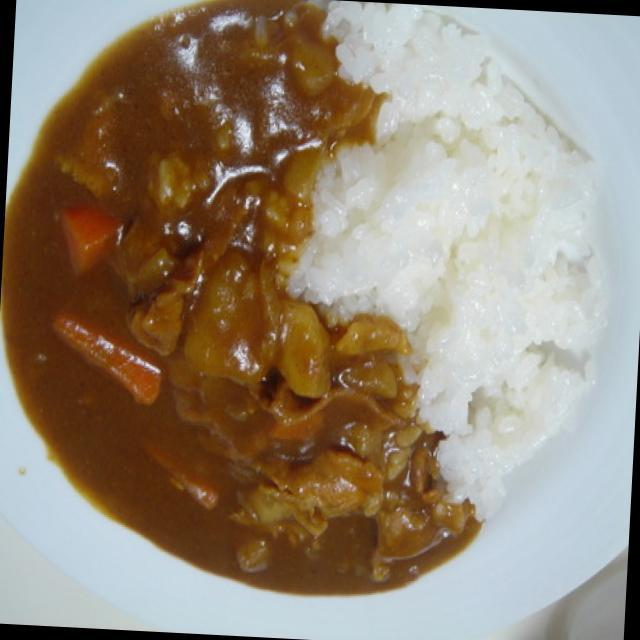Beef Curry: (0, 16, 432, 600)
Rice: (342, 29, 627, 492)
